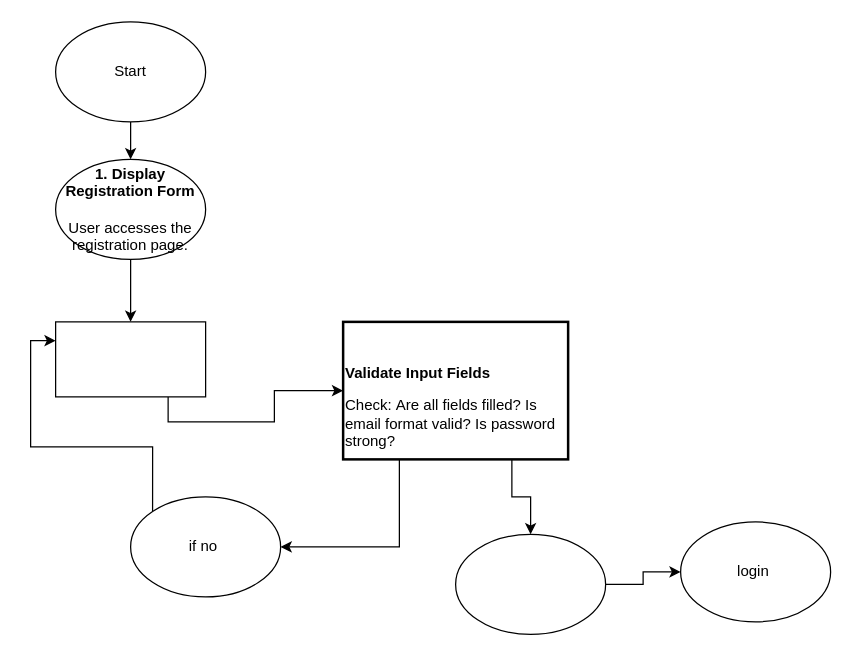
Some shapes in this 853 by 656 pixel diagram are drawn without their labels. Here are the shapes that lost their labels. From the top down, the centre of each, then its label:
(x=130, y=359): User Inputs Data (name, email, password, etc.)
(x=530, y=583): yes
